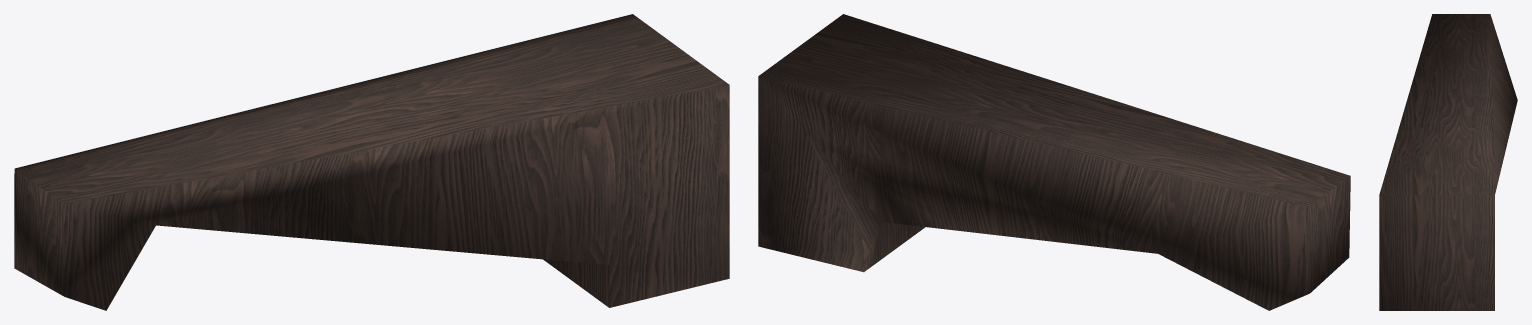
File: Escritorio_Stand2.obj
3 renders of one model, left to right at view 1: azimuth 30°, elevation 25°; view 2: azimuth 150°, elevation 25°; view 3: azimuth 270°, elevation 25°, orthographic. The views are drawn at different scales.
Parts seen in each view (by area): view 1: Escritorio_Stand2; view 2: Escritorio_Stand2; view 3: Escritorio_Stand2.
Boxes of the visible parts, bbox=[...] form: Escritorio_Stand2: bbox=[14, 14, 729, 310]; Escritorio_Stand2: bbox=[758, 14, 1350, 310]; Escritorio_Stand2: bbox=[1379, 14, 1517, 310].
Bounding box in the file's own units: 3.51 × 1.04 × 1.13.
1 material, 1 textured.
